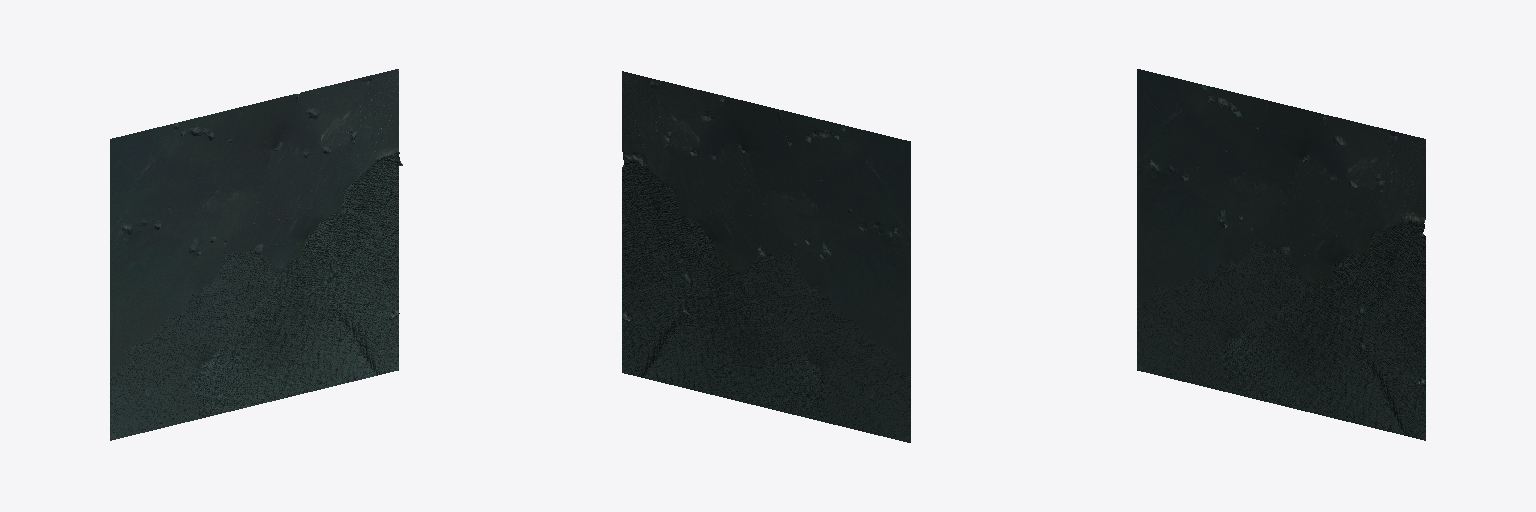
3 renders of one model, left to right at view 1: azimuth 30°, elevation 25°; view 2: azimuth 150°, elevation 25°; view 3: azimuth 330°, elevation 25°, orthographic.
Bounding box in the file's own units: 252 × 252 × 7.82.
Materials: 2 (1 with a texture image).